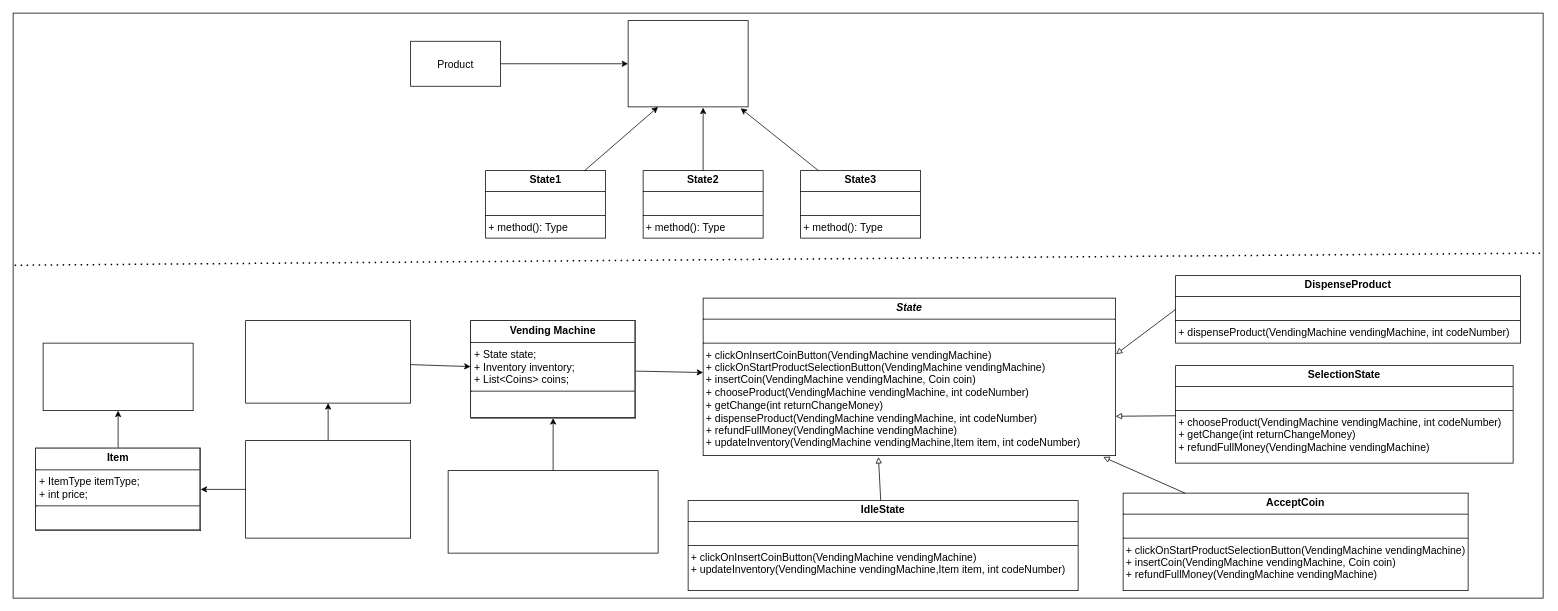
Image size: 1558x611. Some labels were removed from this diagram. Here are the shapes that lost their labels. From the top down, the centre of each, then its label:
At (x=687, y=63): "<<interface>> State + method(): Type".
At (x=117, y=376): "<<Enum>> ItemType Coke, Pepsi, Juice, Soda".
At (x=328, y=361): "Inventory + List<ItemShelf> itemShelfList;".
At (x=328, y=489): "ItemShelf + Item item; + int codeNumber; + boolean isSoldOut".
At (x=552, y=511): "<<Enum>> Coin Penny(1), Nickel(5), Dime(10), Quarter(25) + int value".
